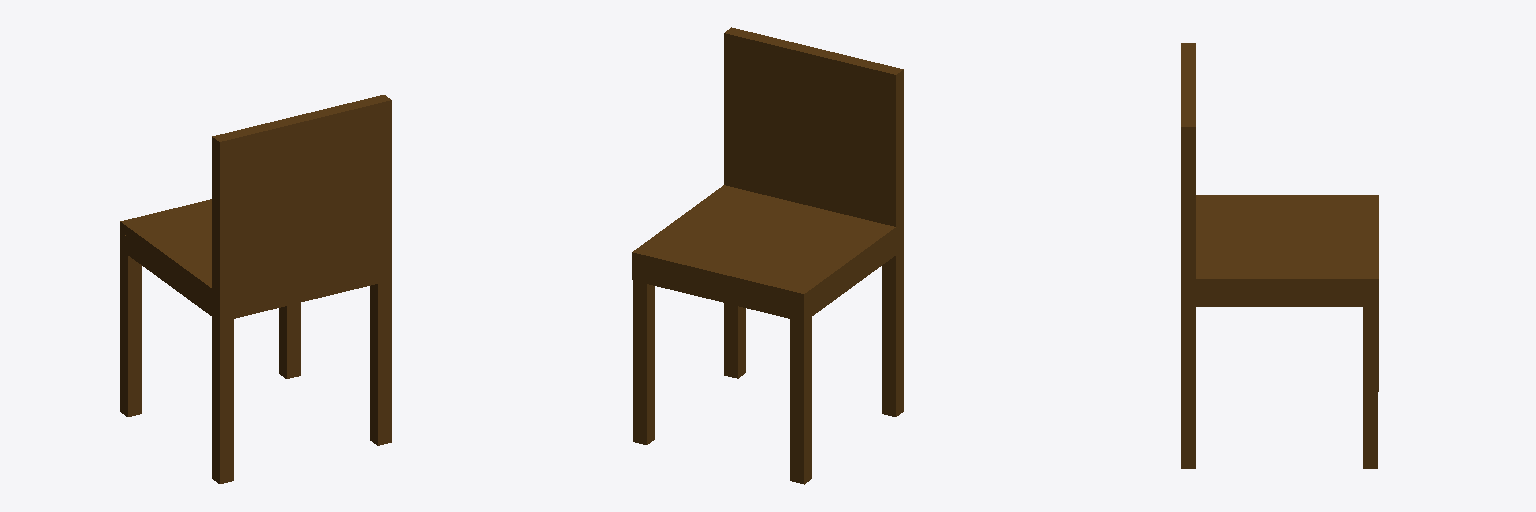
3 renders of one model, left to right at view 1: azimuth 30°, elevation 25°; view 2: azimuth 150°, elevation 25°; view 3: azimuth 270°, elevation 25°, orthographic.
Parts seen in each view (by area): view 1: Cube.1, Cube, Cube.5, Cube.4, Cube.2, Cube.3; view 2: Cube.1, Cube, Cube.2, Cube.3, Cube.4, Cube.5; view 3: Cube, Cube.1, Cube.3, Cube.5.
Boxes of the visible parts, box(x1,y1,x2,y2) form: Cube.1: box(212, 95, 391, 321); Cube: box(120, 199, 391, 321); Cube.5: box(370, 263, 391, 445); Cube.4: box(212, 301, 233, 483); Cube.2: box(120, 232, 141, 416); Cube.3: box(279, 303, 300, 378); Cube.1: box(724, 27, 903, 249); Cube: box(632, 185, 903, 321); Cube.2: box(790, 299, 811, 484); Cube.3: box(633, 281, 654, 444); Cube.4: box(882, 250, 903, 416); Cube.5: box(724, 303, 745, 378); Cube: box(1181, 195, 1378, 306); Cube.1: box(1181, 43, 1195, 306); Cube.3: box(1363, 289, 1377, 468); Cube.5: box(1181, 289, 1195, 468).
Bounding box in the file's own units: 20.01 × 38 × 20.
1 materials, 1 textured.